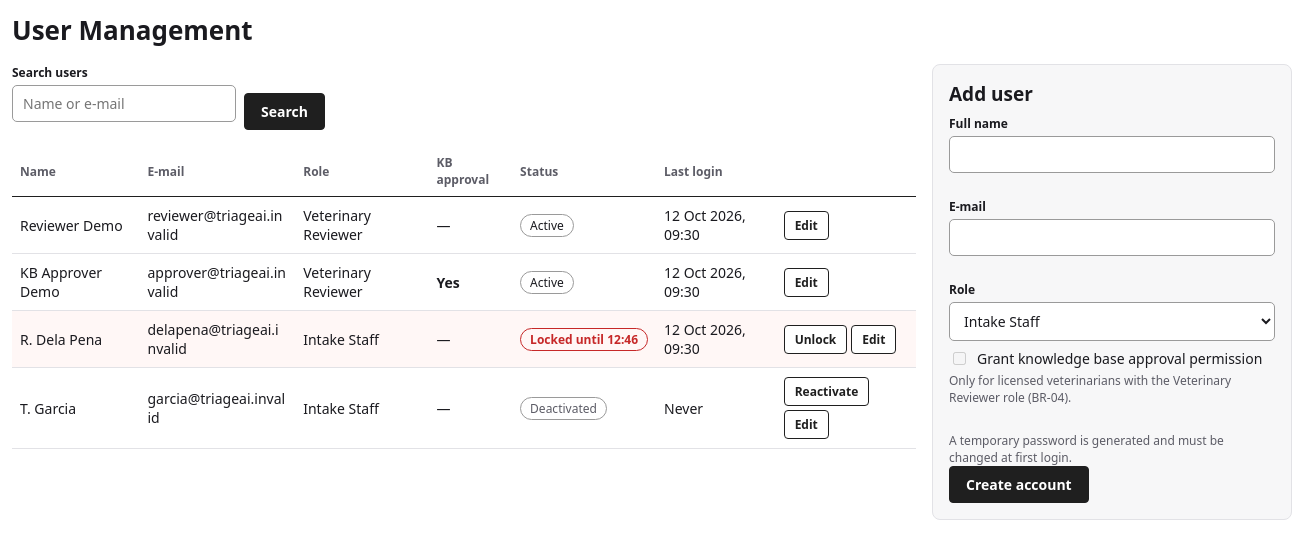
Test: the add-user panel (BR-04) › puts a duplicate e-mail beside the e-mail field
Check: the text "Reviewer Demo" is shown, box 12,196 -> 140,254
Type "Maria Santos" into the field labelled "Full name" at (1112, 154), box 949,136 -> 1275,173
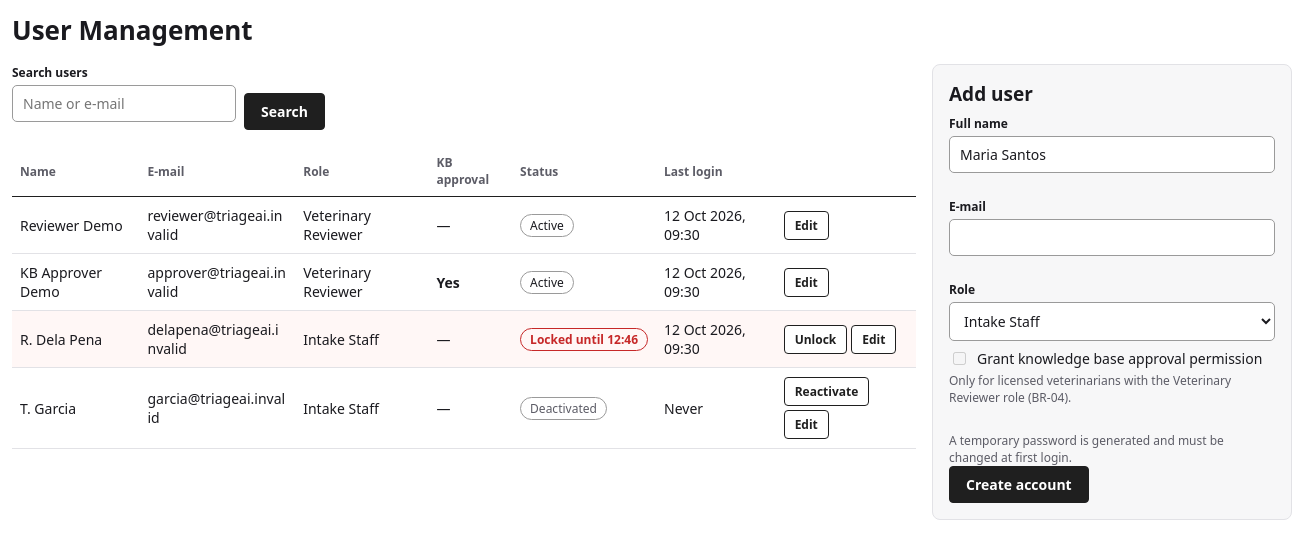
Type "maria.santos@triageai.invalid" into the field labelled "E-mail" at (1112, 238), box 949,219 -> 1275,256
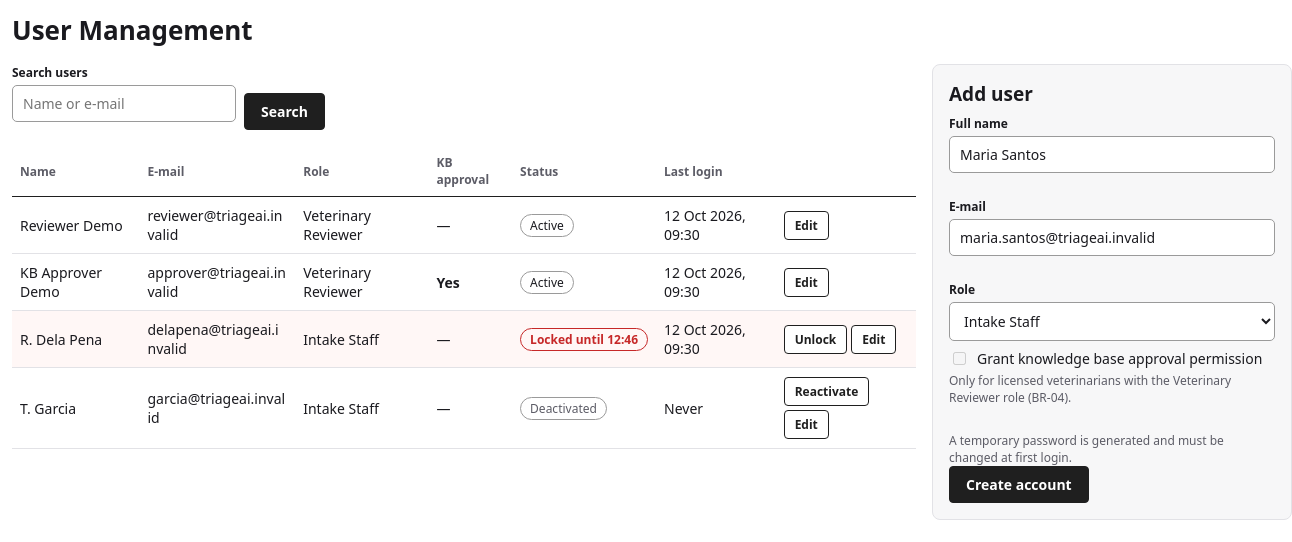
Click the button "Create account" at (1019, 484), box 949,466 -> 1089,503
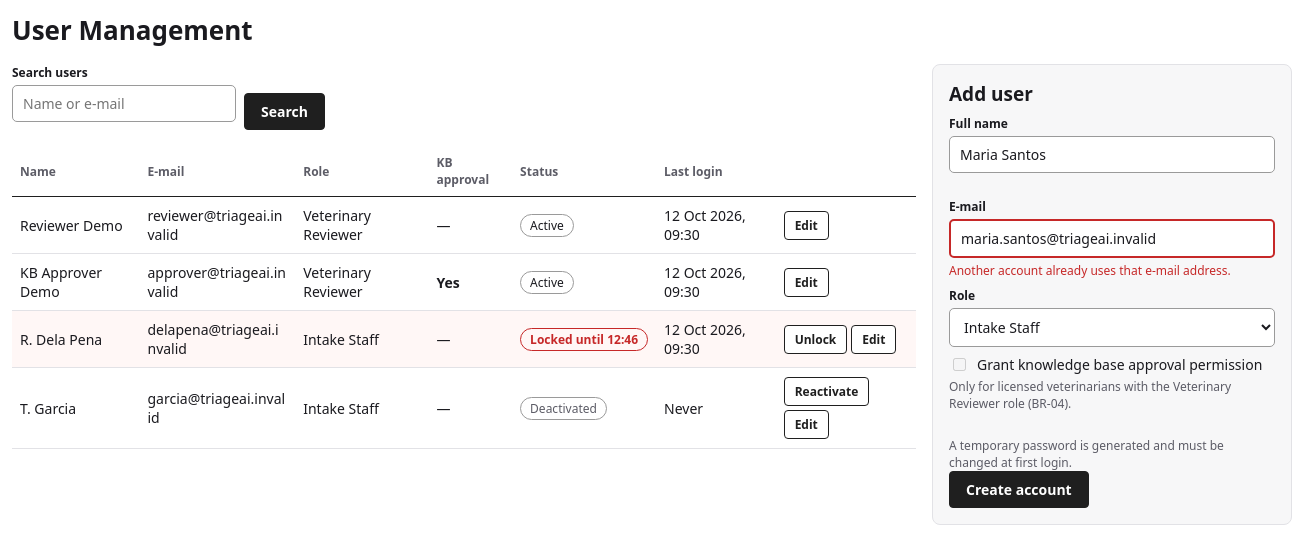
Check: the text "Another account already uses that e-mail address." is shown, box 949,262 -> 1275,279
